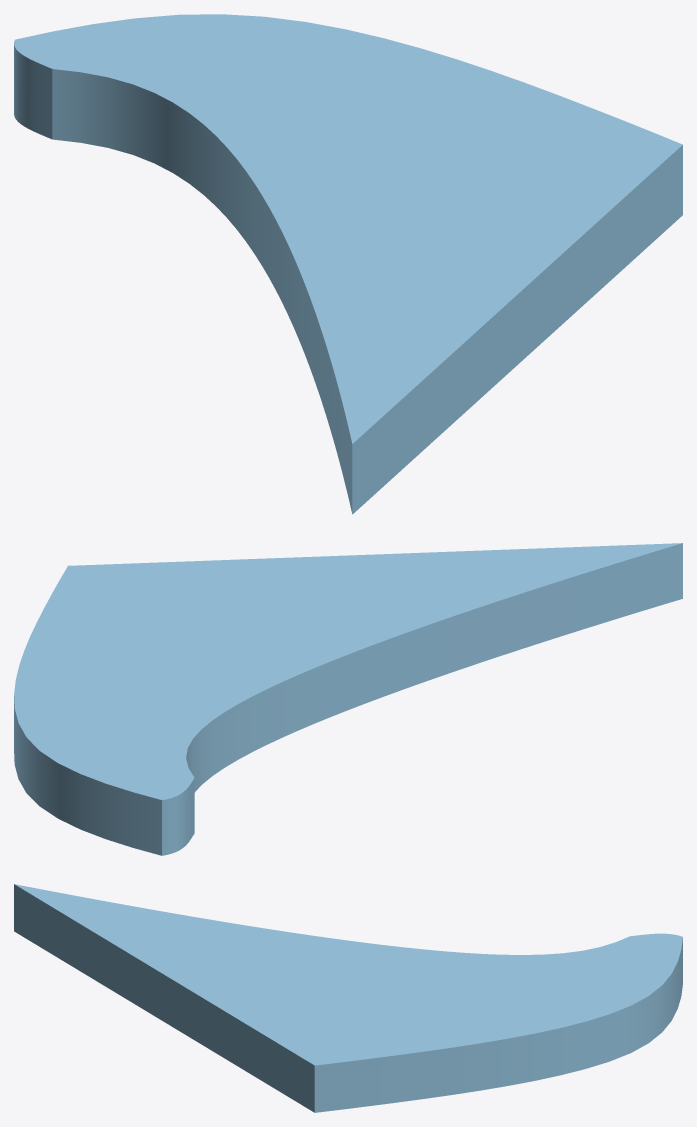
The model's file is Collision-Tip-Left.dae.
The picture shows the model from 3 angles, top to bottom: view 1: azimuth 30°, elevation 25°; view 2: azimuth 150°, elevation 25°; view 3: azimuth 270°, elevation 25°; orthographic projection. The views are drawn at different scales.
Parts seen in each view (by area): view 1: ID2; view 2: ID2; view 3: ID2.
Boxes of the visible parts, bbox=[...] form: ID2: bbox=[14, 14, 682, 514]; ID2: bbox=[14, 543, 682, 855]; ID2: bbox=[14, 884, 682, 1112].
Bounding box in the file's own units: 0.2057 × 0.3204 × 0.025.
